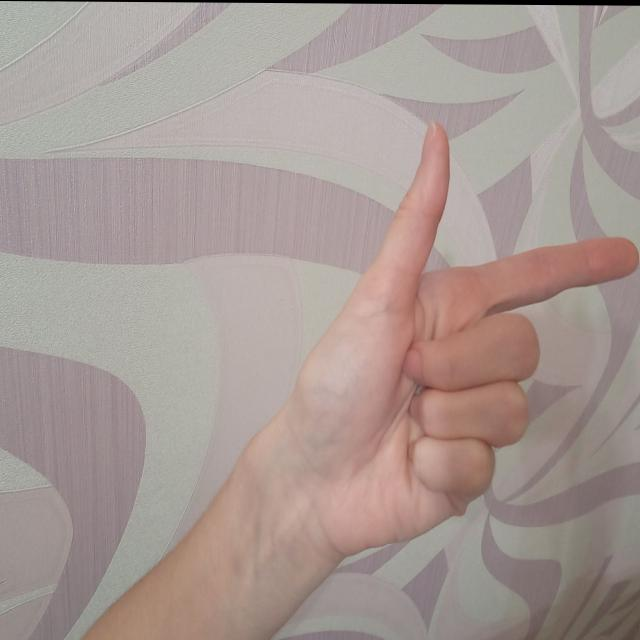g: (280, 122, 638, 568)
